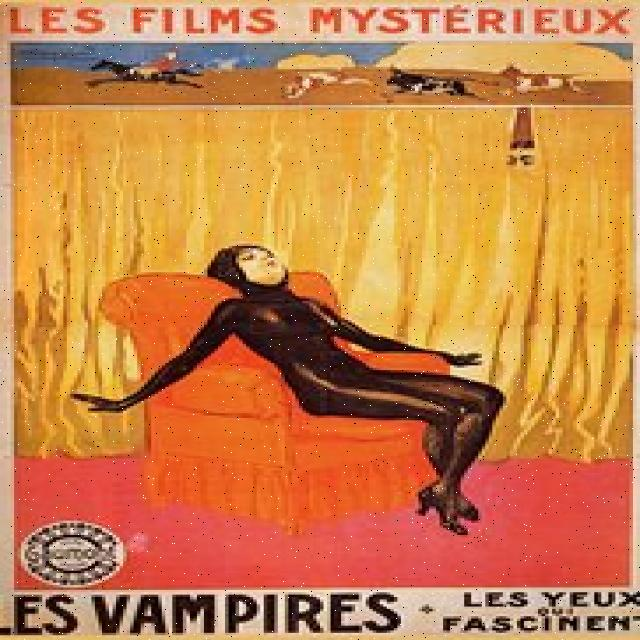movie-judul: (2, 591, 640, 640)
picture: (11, 45, 616, 530)
